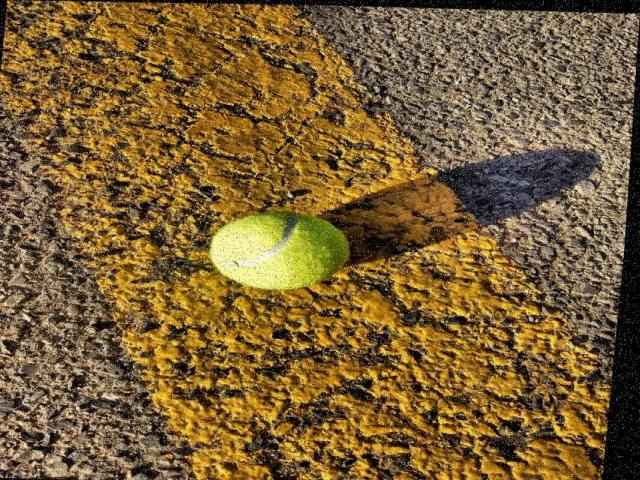tennis-ball: (210, 209, 350, 291)
